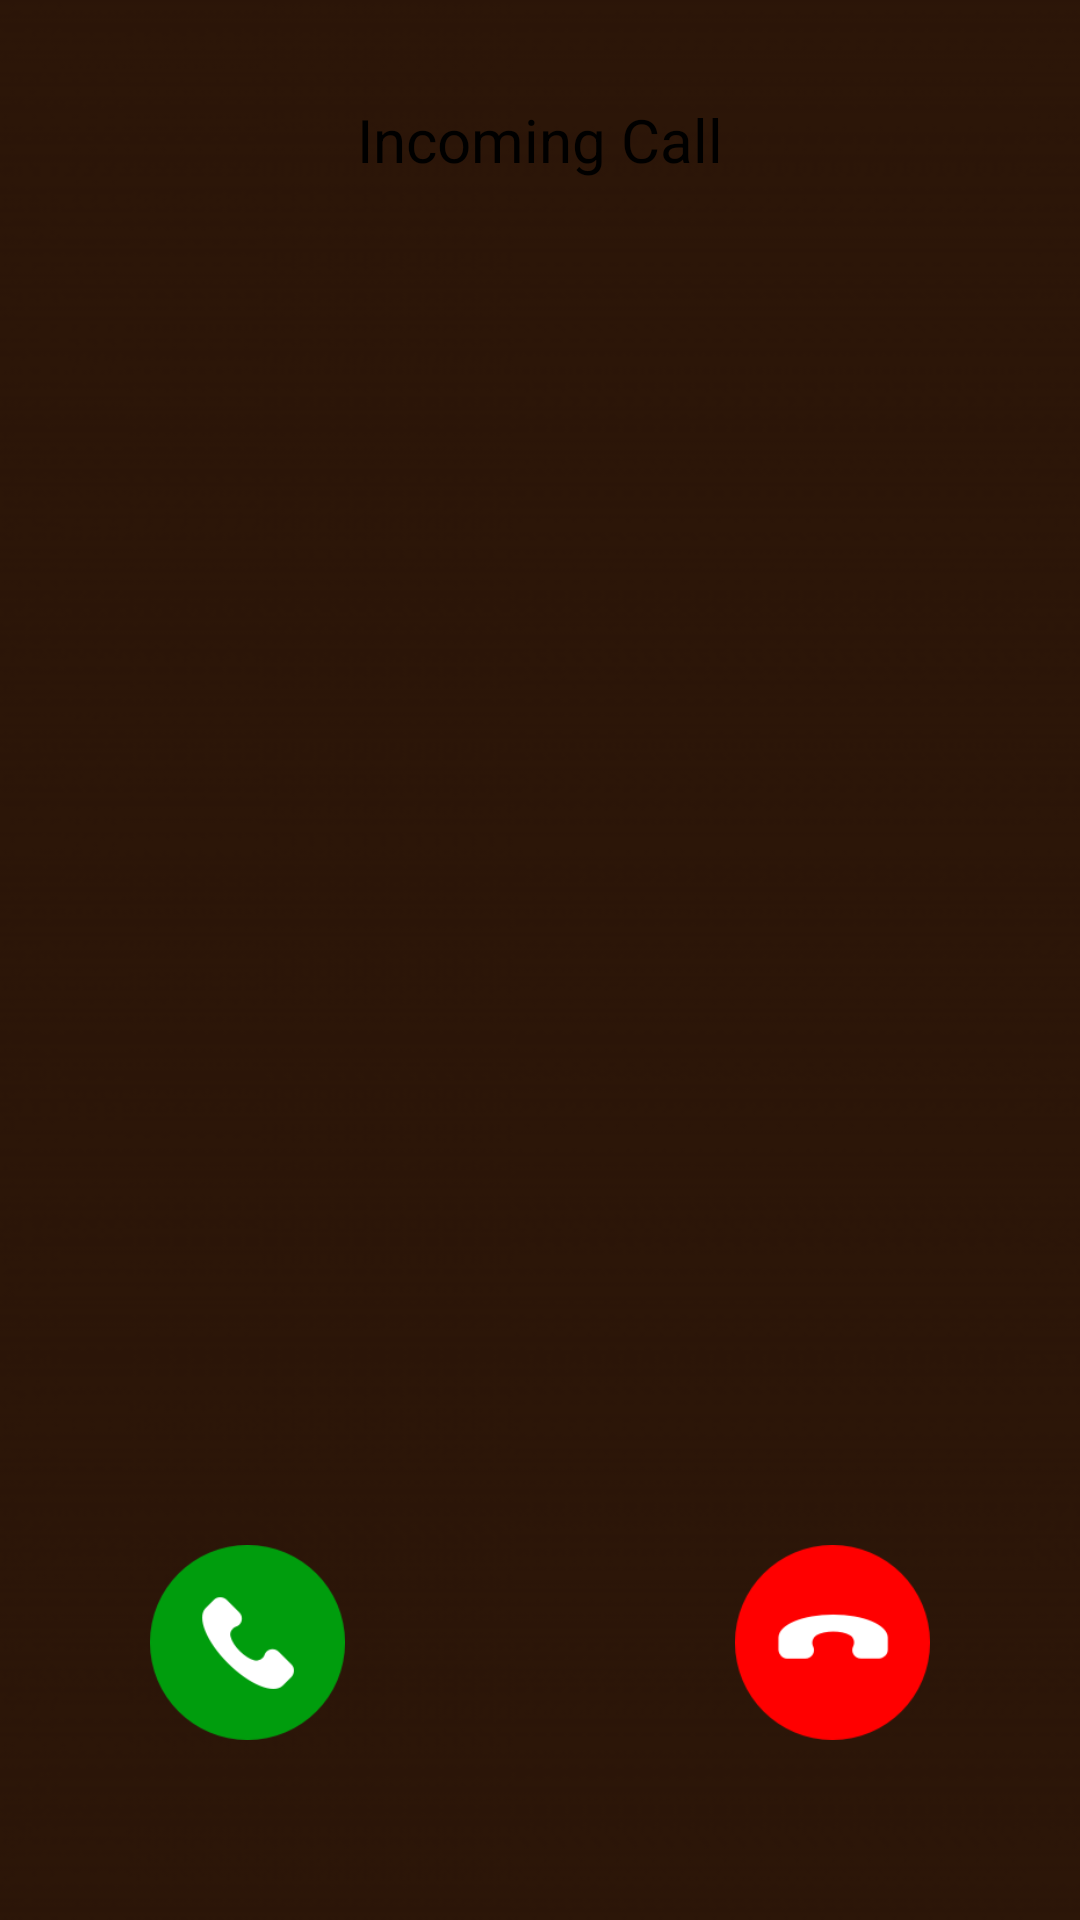

Point at icon controls on the screen. Image size 1080×1920, points as point (x, y).
acpt: point (247, 1642)
